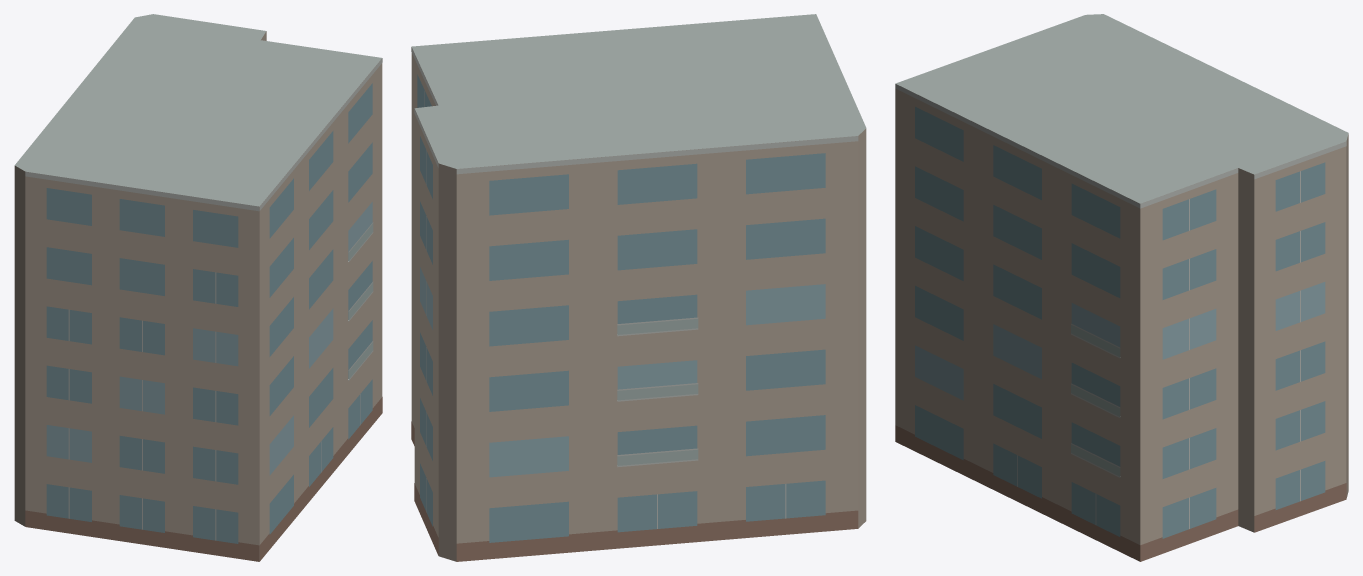
The model's file is survey-upis-32711318.glb.
3 views of the same model, side by side, from view 1: azimuth 30°, elevation 25°; view 2: azimuth 150°, elevation 25°; view 3: azimuth 270°, elevation 25° (orthographic). The views are drawn at different scales.
Visible parts, largest first — view 1: survey-upis-32711318.tmp; view 2: survey-upis-32711318.tmp; view 3: survey-upis-32711318.tmp.
Boxes of the visible parts, box(x1,y1,x2,y2) form: survey-upis-32711318.tmp: box(14, 14, 382, 561); survey-upis-32711318.tmp: box(411, 14, 866, 561); survey-upis-32711318.tmp: box(895, 14, 1348, 561).
Bounding box in the file's own units: 20.58 × 18.1 × 20.78.
